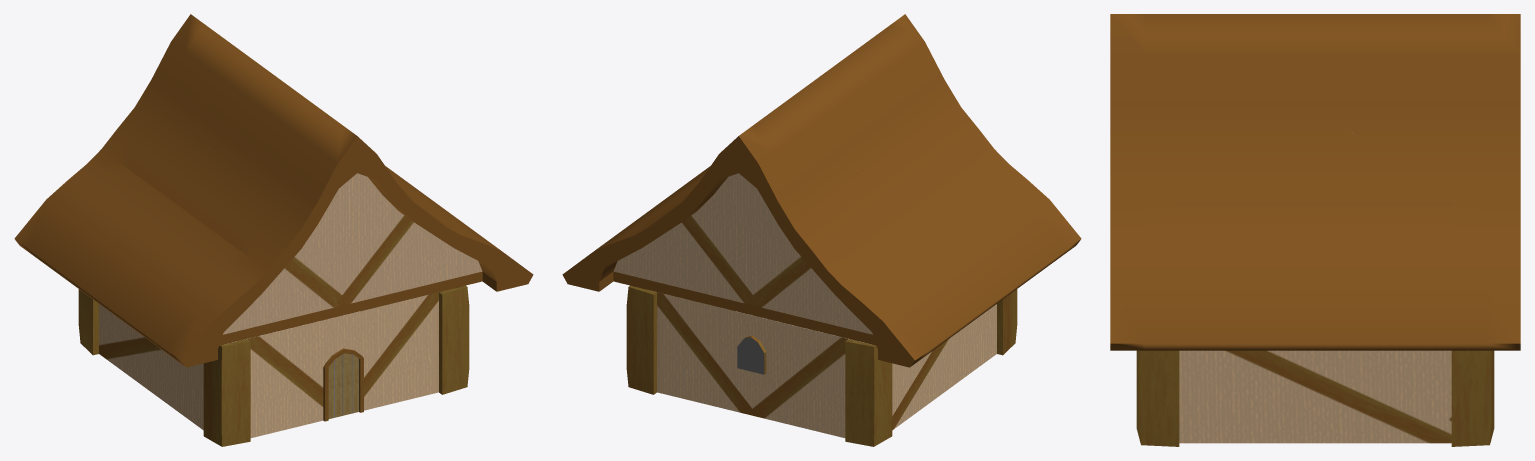
The model's file is SmallHouse 1.fbx.
3 views of the same model, side by side, from view 1: azimuth 30°, elevation 25°; view 2: azimuth 150°, elevation 25°; view 3: azimuth 270°, elevation 25° (orthographic). The views are drawn at different scales.
Parts seen in each view (by area): view 1: pCube3; view 2: pCube3; view 3: pCube3.
Boxes of the visible parts, x1,y1,x2,y2 form: pCube3: (14,14,533,446); pCube3: (562,14,1081,446); pCube3: (1110,14,1520,446).
Bounding box in the file's own units: 14.73 × 11.59 × 12.05.
1 material, 1 textured.
